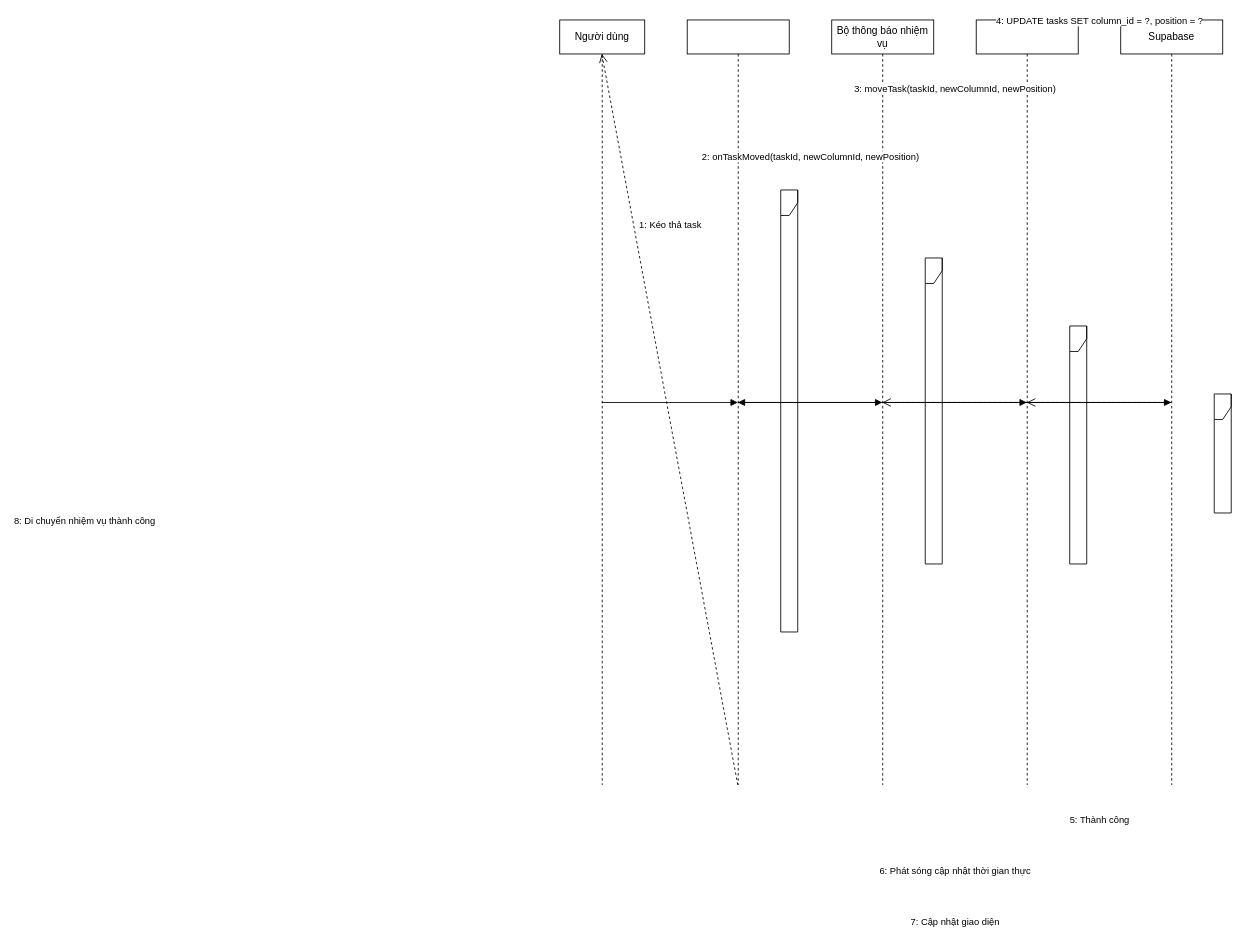
This 1247x941 diagram has some shape labels left out. Here are the shapes that lost their labels. From the top down, the box of each, then its label:
(686, 19, 789, 785): Cột Kanban
(975, 19, 1078, 785): Kho dữ liệu nhiệm vụ
